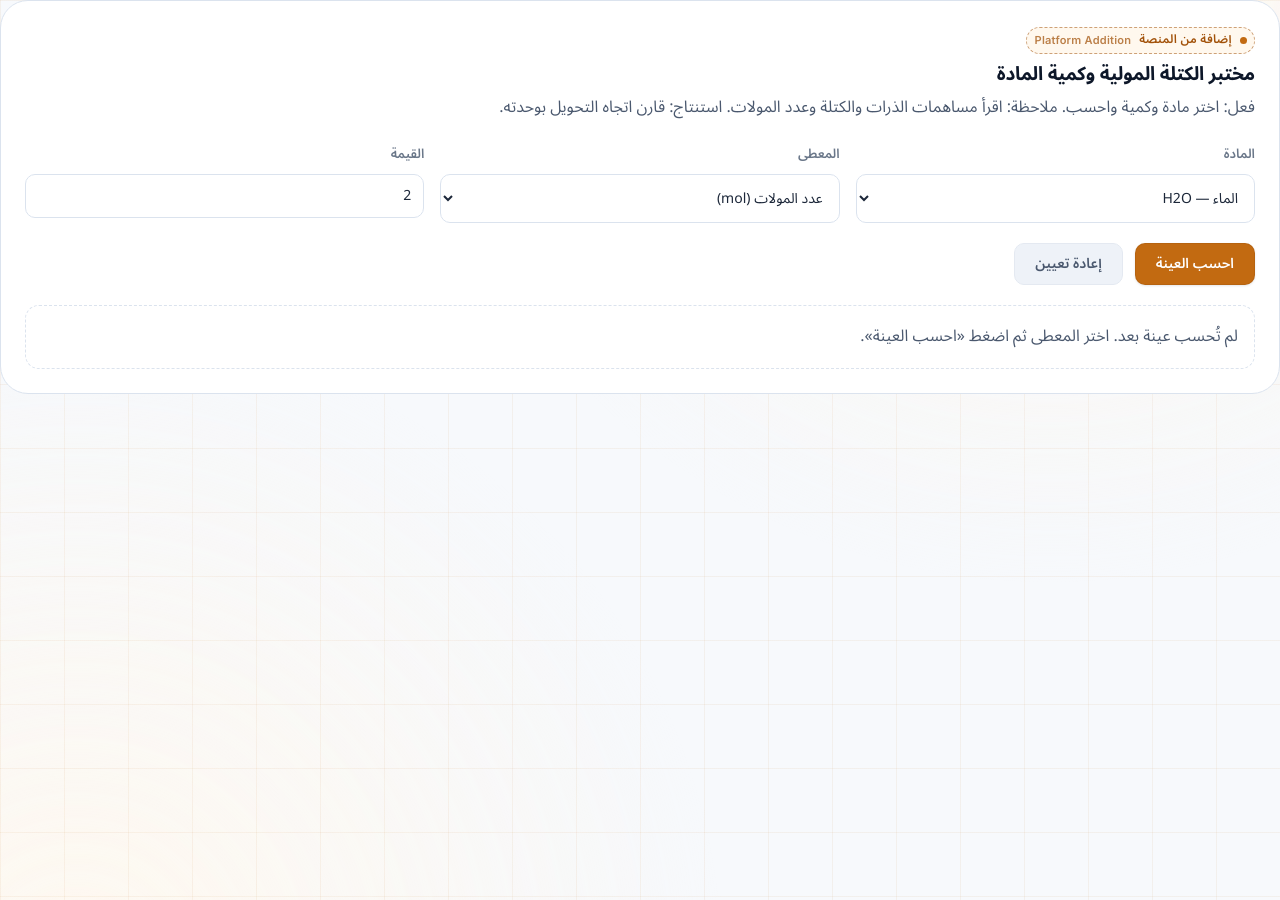
Lesson 7 models and labs — action, observation, conclusion › rejects invalid lab input without inventing a reading
Step 1. Clear the number field labelled "القيمة" → {"x": 225, "y": 196}, box [25,174,424,218]
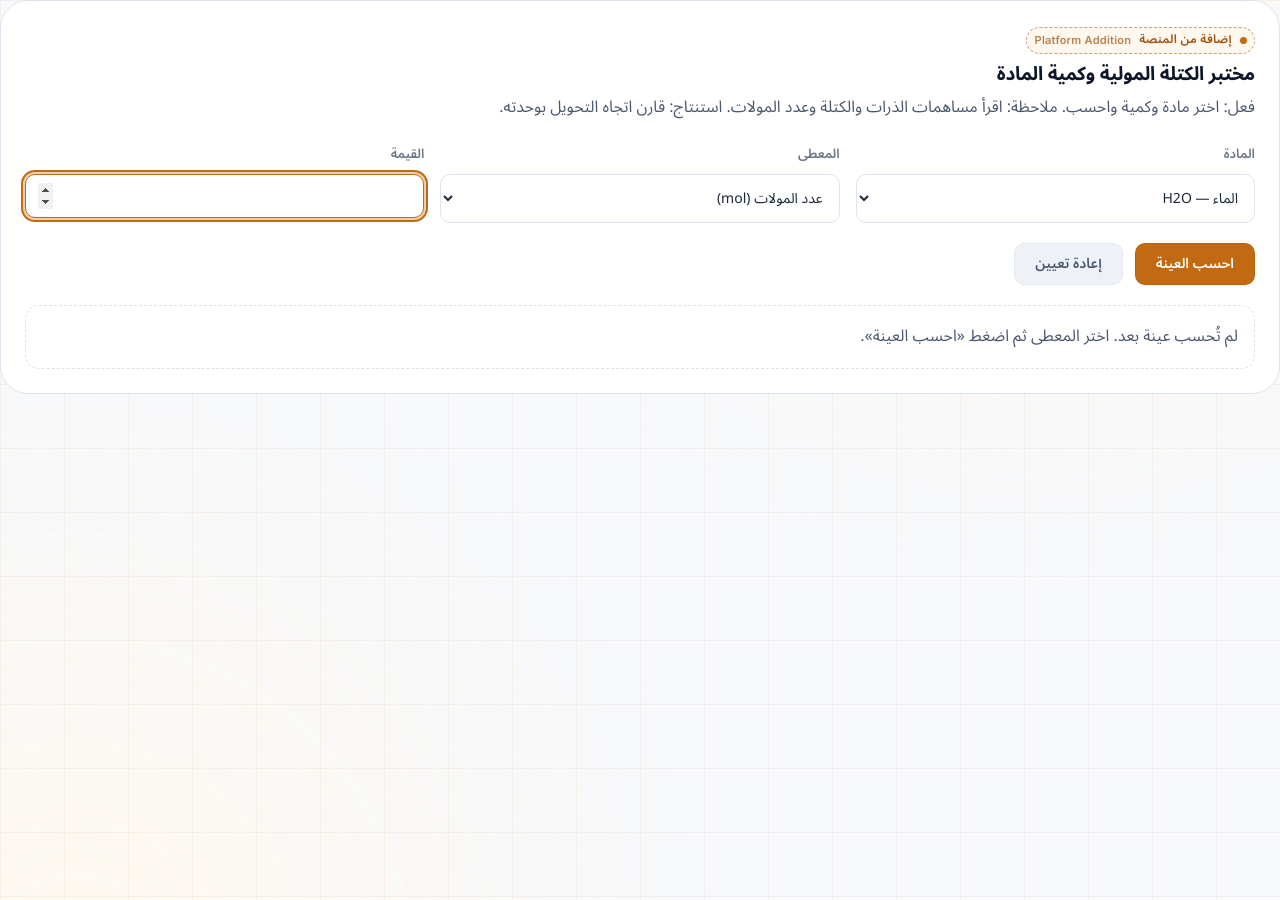
Step 2. Click the button "احسب العينة" → {"x": 1195, "y": 264}, box [1135,243,1255,285]
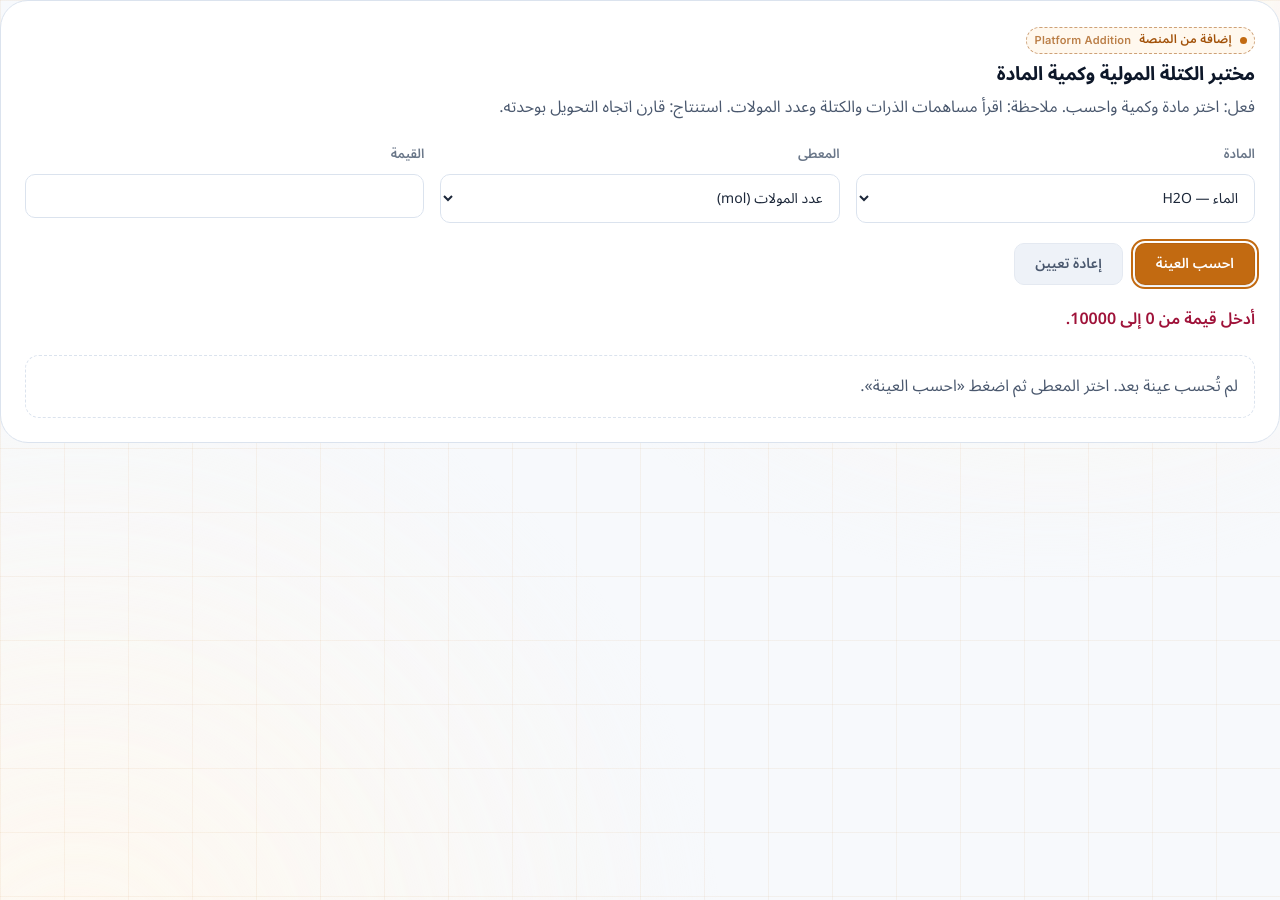
Now the message shows "أدخل قيمة من 0 إلى 10000", box [1066,302,1255,336]
